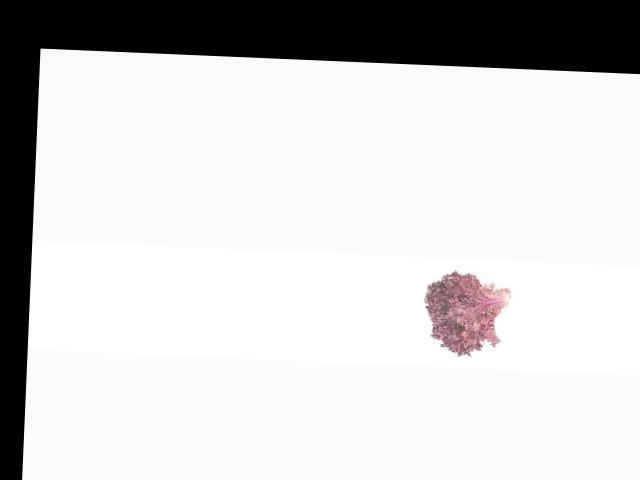lettuce: (417, 273, 520, 361)
